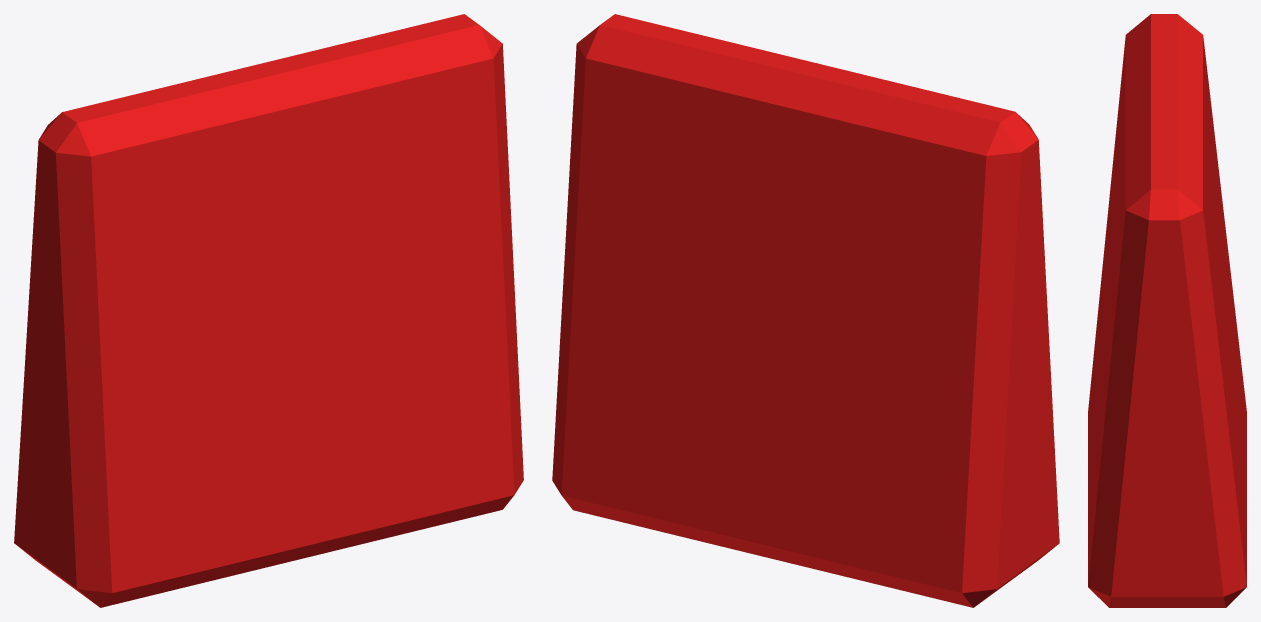
Rendered from switch.fbx.
3 renders of one model, left to right at view 1: azimuth 30°, elevation 25°; view 2: azimuth 150°, elevation 25°; view 3: azimuth 270°, elevation 25°, orthographic. The views are drawn at different scales.
Visible parts, largest first — view 1: Cube; view 2: Cube; view 3: Cube.
Boxes of the visible parts, left/top/right/bottom form: Cube: left=14, top=14, right=523, bottom=607; Cube: left=552, top=14, right=1059, bottom=607; Cube: left=1088, top=14, right=1246, bottom=607.
Size of the model in its own units: 200 by 200 by 68.81.
